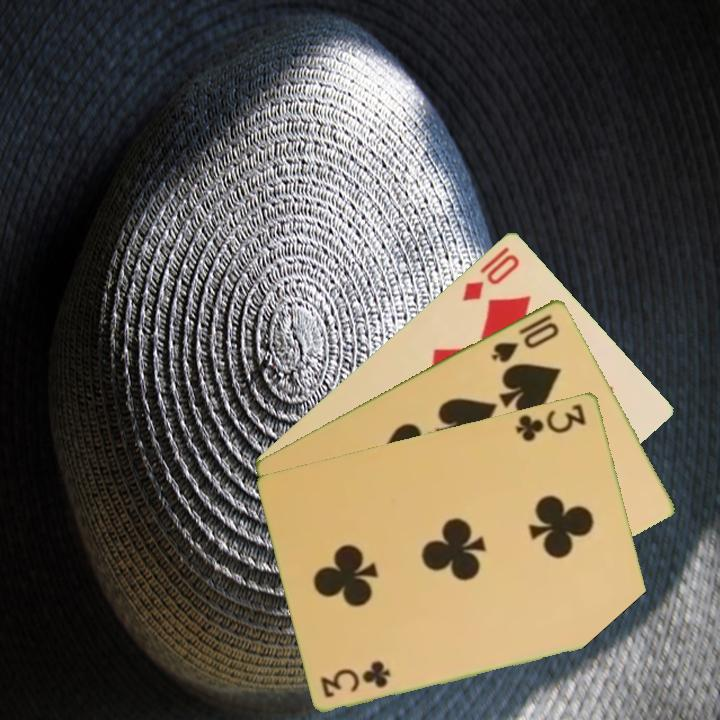10d: (458, 249, 523, 304)
10s: (488, 310, 563, 365)
3c: (512, 400, 589, 444), (317, 659, 394, 700)
